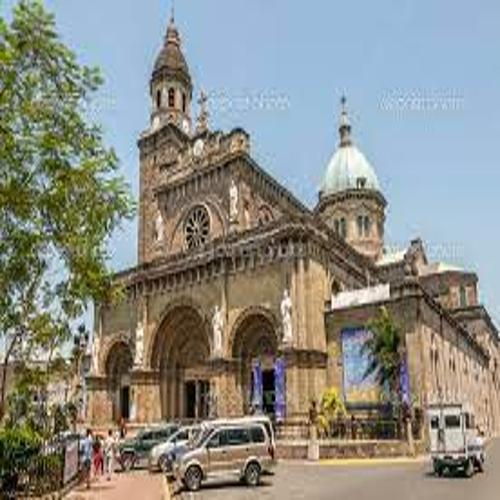Manila Cathedral Church: (62, 5, 496, 468)
